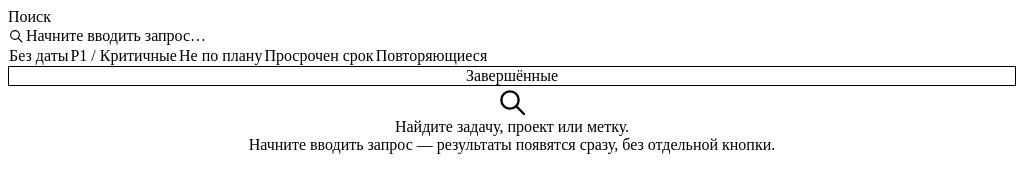
Search — Системные фильтры, M34 (01§16, E12.3) › «Повторяющиеся» — активная задача с seriesId !== null
Expected: the button "Без даты" is shown, x1=8 y1=46 x2=69 y2=66
Click the button "Повторяющиеся": [431, 56] box x1=375 y1=46 x2=488 y2=66
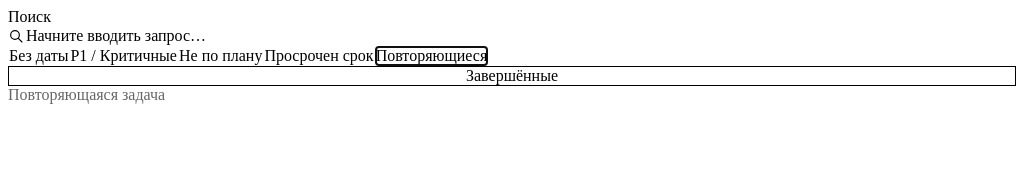
Result: the text "Повторяющаяся задача" is shown at x1=8 y1=86 x2=165 y2=104
